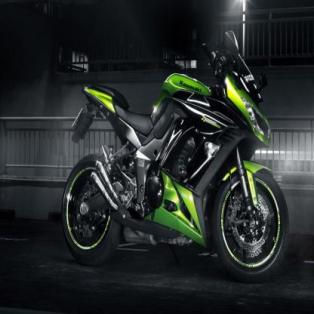Motocicleta: (61, 28, 292, 278)
